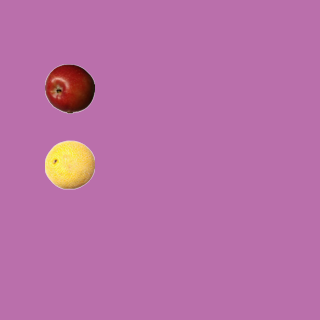Apple Braeburn: (44, 63, 94, 113)
Cantaloupe 1: (44, 139, 94, 189)
